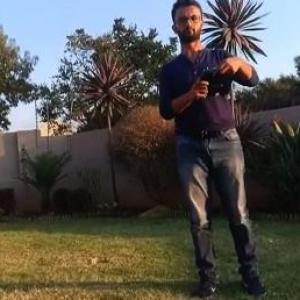follow: (150, 0, 272, 299)
